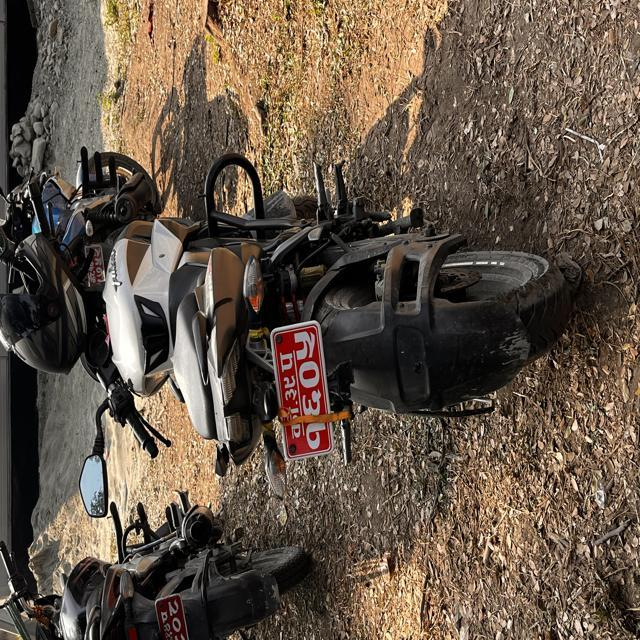license_plate: (253, 324, 350, 461)
